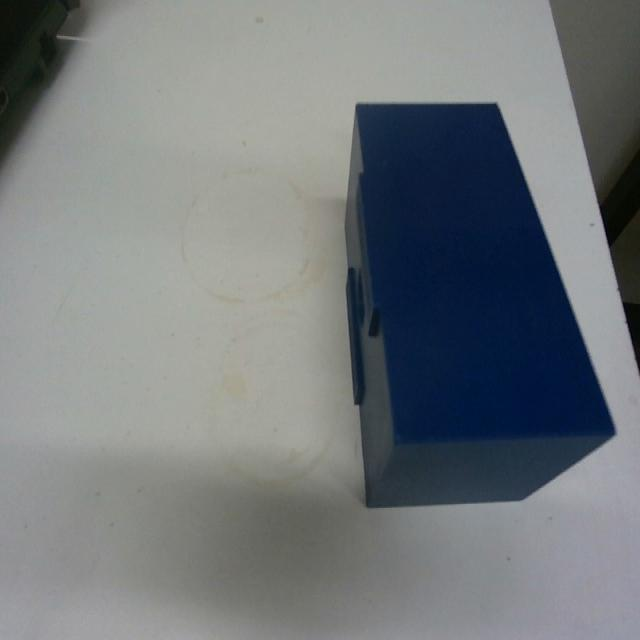Blue Cuboid: (341, 98, 617, 510)
